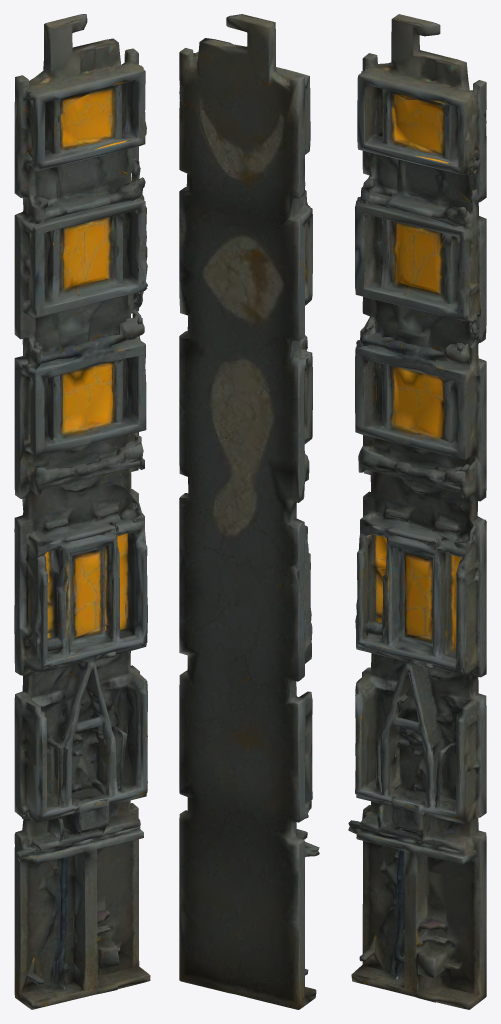
File: chimera-tower.glb
The picture shows the model from 3 angles, left to right: view 1: azimuth 30°, elevation 25°; view 2: azimuth 150°, elevation 25°; view 3: azimuth 330°, elevation 25°; orthographic projection.
Bounding box in the file's own units: 0.2648 × 1.9 × 0.0801.
Materials: 1 (1 with a texture image).
